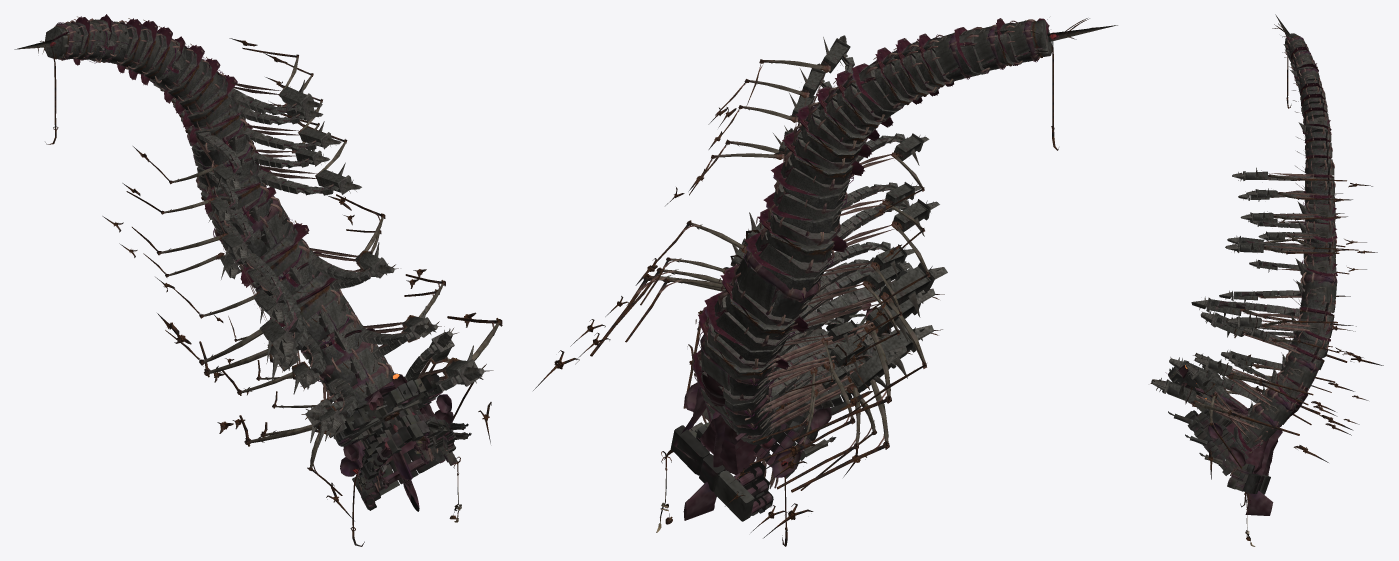
The model's file is mason_hero.glb.
3 renders of one model, left to right at view 1: azimuth 30°, elevation 25°; view 2: azimuth 150°, elevation 25°; view 3: azimuth 270°, elevation 25°, orthographic. The views are drawn at different scales.
Visible parts, largest first — view 1: Mason_Head.001, Mason_Head.002, Mason_LimbUpper_leg17, Mason_LimbUpper_leg14, Mason_LimbUpper_leg12, Mason_LimbUpper_leg24, Mason_Segment_2_v07, Mason_LimbUpper_leg21, Mason_Segment_1_v02, Mason_LimbUpper_leg05, Mason_Segment_2_v14, Mason_LimbUpper_leg15 (+29 smaller); view 2: Mason_Head.001, Mason_Head.002, Mason_LimbUpper_leg14, Mason_LimbUpper_leg11, Mason_Segment_1_v08, Mason_Segment_2_v10, Mason_Segment_2_v07, Mason_Segment_0_v06, Mason_Segment_0_v09, Mason_LimbUpper_leg05, Mason_LimbUpper_leg18, Mason_LimbUpper_leg01 (+31 smaller); view 3: Mason_Head.001, Mason_Head.002, Mason_LimbUpper_leg14, Mason_LimbUpper_leg02, Mason_Segment_2_v07, Mason_Segment_2_v05, Mason_LimbUpper_leg12, Mason_Segment_1_v08, Mason_LimbUpper_leg00, Mason_LimbUpper_leg15, Mason_LimbUpper_leg17, Mason_Segment_0_v06 (+35 smaller).
Part boxes in pixels (x1=…): Mason_Head.001: x1=323, y1=325, x2=471, y2=546; Mason_Head.002: x1=327, y1=329, x2=468, y2=544; Mason_LimbUpper_leg17: x1=257, y1=162, x2=361, y2=195; Mason_LimbUpper_leg14: x1=246, y1=266, x2=302, y2=363; Mason_LimbUpper_leg12: x1=307, y1=242, x2=398, y2=282; Mason_LimbUpper_leg24: x1=227, y1=80, x2=322, y2=115; Mason_Segment_2_v07: x1=232, y1=217, x2=309, y2=285; Mason_LimbUpper_leg21: x1=244, y1=121, x2=341, y2=150; Mason_Segment_1_v02: x1=318, y1=337, x2=387, y2=395; Mason_LimbUpper_leg05: x1=317, y1=378, x2=358, y2=447; Mason_Segment_2_v14: x1=171, y1=70, x2=237, y2=128; Mason_LimbUpper_leg15: x1=239, y1=249, x2=286, y2=323; Mason_Head.001: x1=656, y1=287, x2=881, y2=546; Mason_Head.002: x1=657, y1=287, x2=872, y2=544; Mason_LimbUpper_leg14: x1=775, y1=261, x2=947, y2=336; Mason_LimbUpper_leg11: x1=754, y1=285, x2=944, y2=373; Mason_Segment_1_v08: x1=737, y1=247, x2=820, y2=318; Mason_Segment_2_v10: x1=756, y1=199, x2=846, y2=262; Mason_Segment_2_v07: x1=718, y1=264, x2=807, y2=339; Mason_Segment_0_v06: x1=704, y1=290, x2=795, y2=362; Mason_Segment_0_v09: x1=746, y1=228, x2=834, y2=291; Mason_LimbUpper_leg05: x1=745, y1=325, x2=942, y2=420; Mason_LimbUpper_leg18: x1=831, y1=199, x2=939, y2=251; Mason_LimbUpper_leg01: x1=769, y1=346, x2=912, y2=430; Mason_Head.001: x1=1165, y1=365, x2=1307, y2=546; Mason_Head.002: x1=1168, y1=365, x2=1307, y2=546; Mason_LimbUpper_leg14: x1=1191, y1=296, x2=1300, y2=318; Mason_LimbUpper_leg02: x1=1150, y1=378, x2=1267, y2=432; Mason_Segment_2_v07: x1=1289, y1=292, x2=1335, y2=325; Mason_Segment_2_v05: x1=1286, y1=331, x2=1328, y2=369; Mason_LimbUpper_leg12: x1=1226, y1=313, x2=1310, y2=331; Mason_Segment_1_v08: x1=1293, y1=272, x2=1337, y2=302; Mason_LimbUpper_leg00: x1=1184, y1=363, x2=1250, y2=435; Mason_LimbUpper_leg15: x1=1219, y1=290, x2=1301, y2=302; Mason_LimbUpper_leg17: x1=1225, y1=241, x2=1319, y2=252; Mason_Segment_0_v06: x1=1291, y1=313, x2=1333, y2=346.
Size of the model in its own units: 22.55 by 25.26 by 13.84.
Materials: 3 (2 with a texture image).
